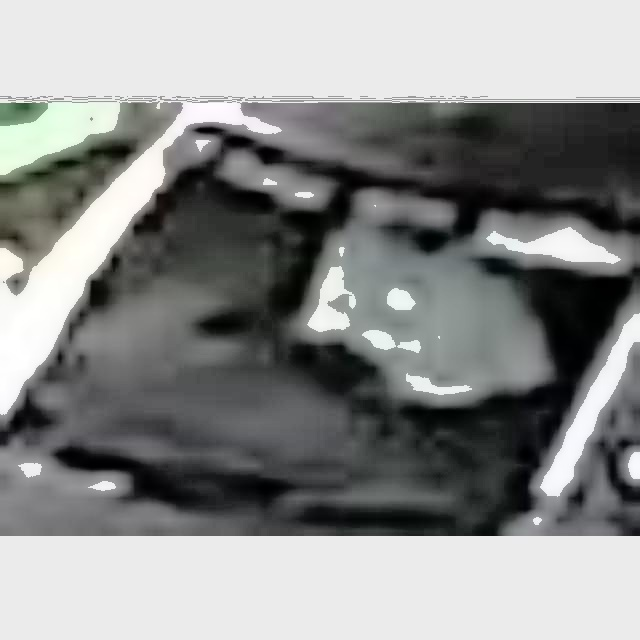tidak-pakai: (249, 168, 521, 407)
